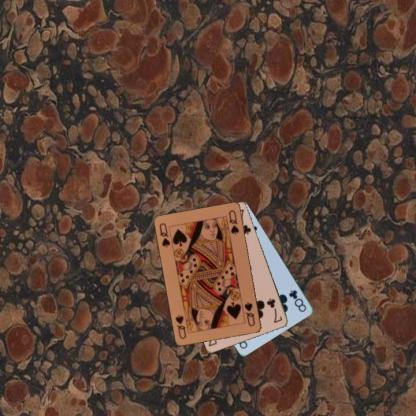7c: (264, 296, 284, 324)
8c: (287, 287, 308, 313)
Qs: (242, 299, 257, 328), (156, 221, 172, 248)
